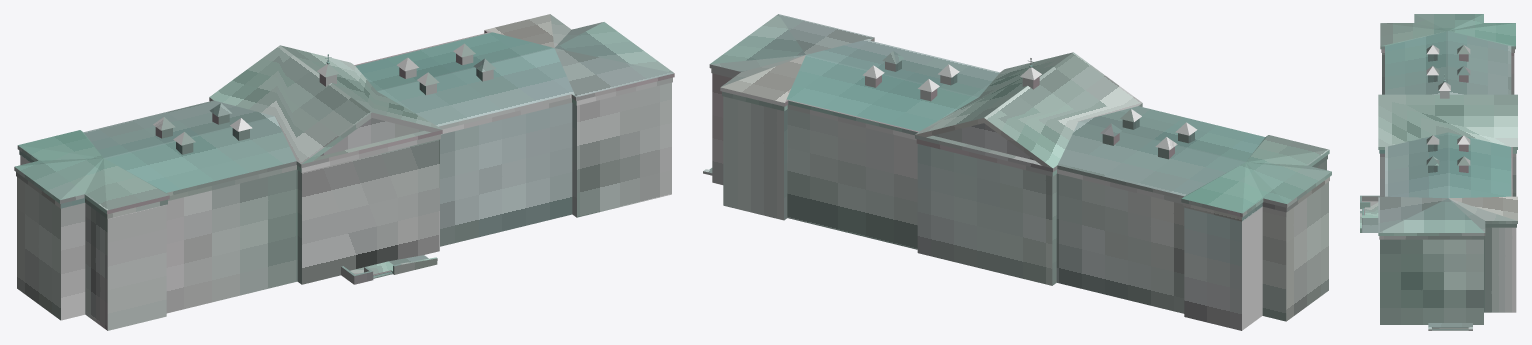
3 views of the same model, side by side, from view 1: azimuth 30°, elevation 25°; view 2: azimuth 150°, elevation 25°; view 3: azimuth 270°, elevation 25° (orthographic). The views are drawn at different scales.
Visible parts, largest first — view 1: Untitled; view 2: Untitled; view 3: Untitled.
Part boxes in pixels (x1,y1,x2,y2): Untitled: (14,14,674,330); Untitled: (703,14,1331,330); Untitled: (1360,14,1517,330).
Bounding box in the file's own units: 54.86 × 15.78 × 16.3.
2 materials, 2 textured.
